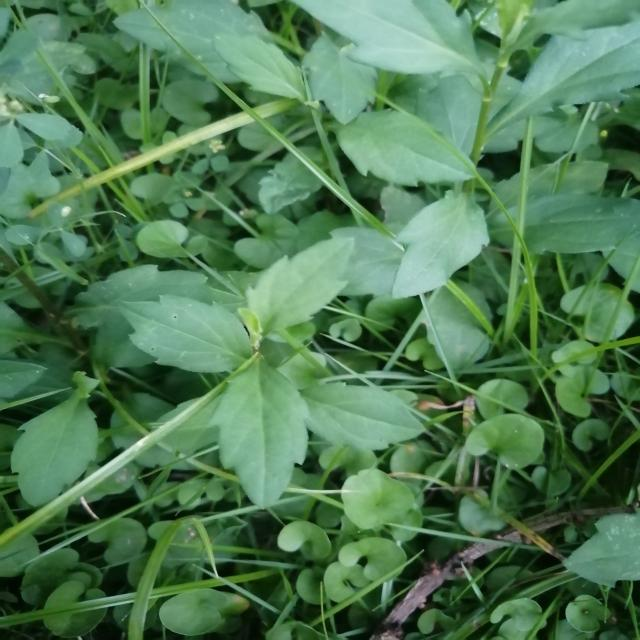Indian aster: (358, 0, 640, 279), (112, 238, 418, 489)
